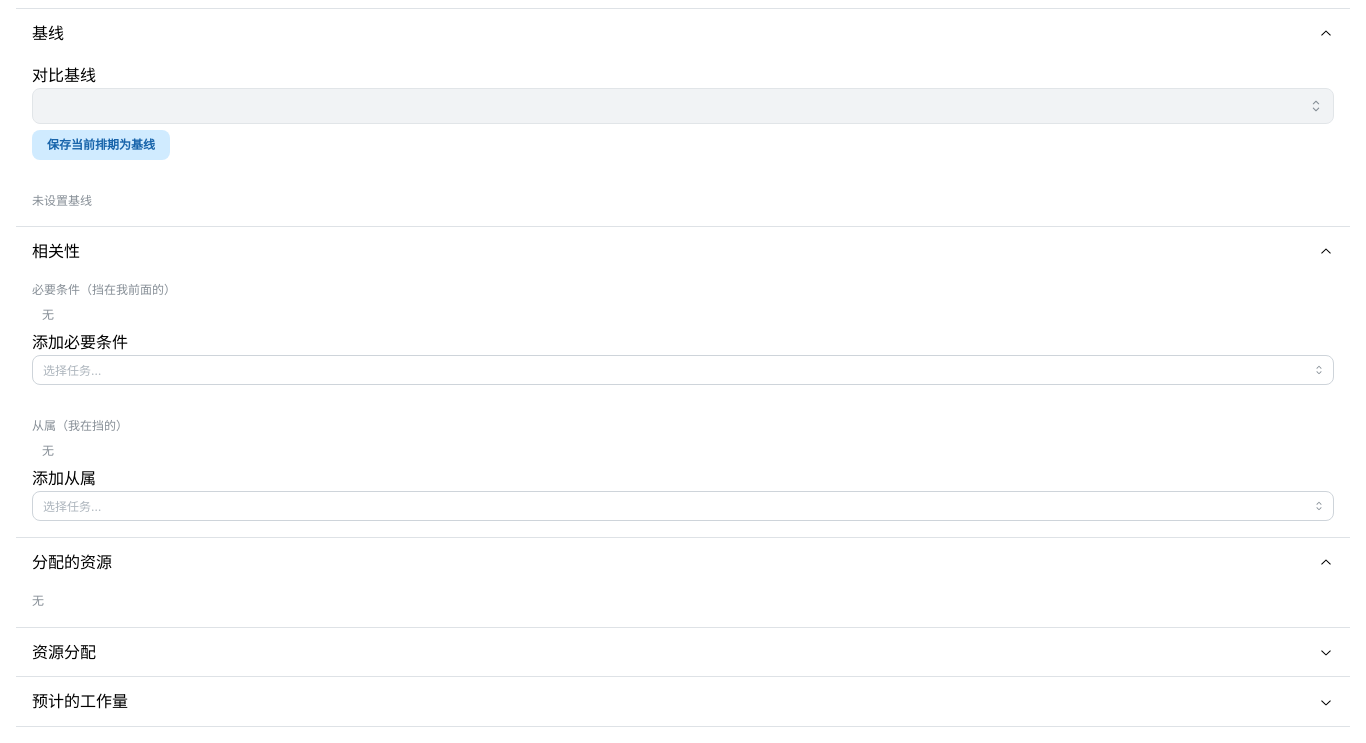
it: Inspector 任务面板的 7 个分组 › 占位组展开后是只读事实块 + 说明文案，且不含任何禁用控件（§3.3）
(page scrolled)
Click the button "资源分配". click: [64, 652]
box: [16,628,1350,676]
(page scrolled)
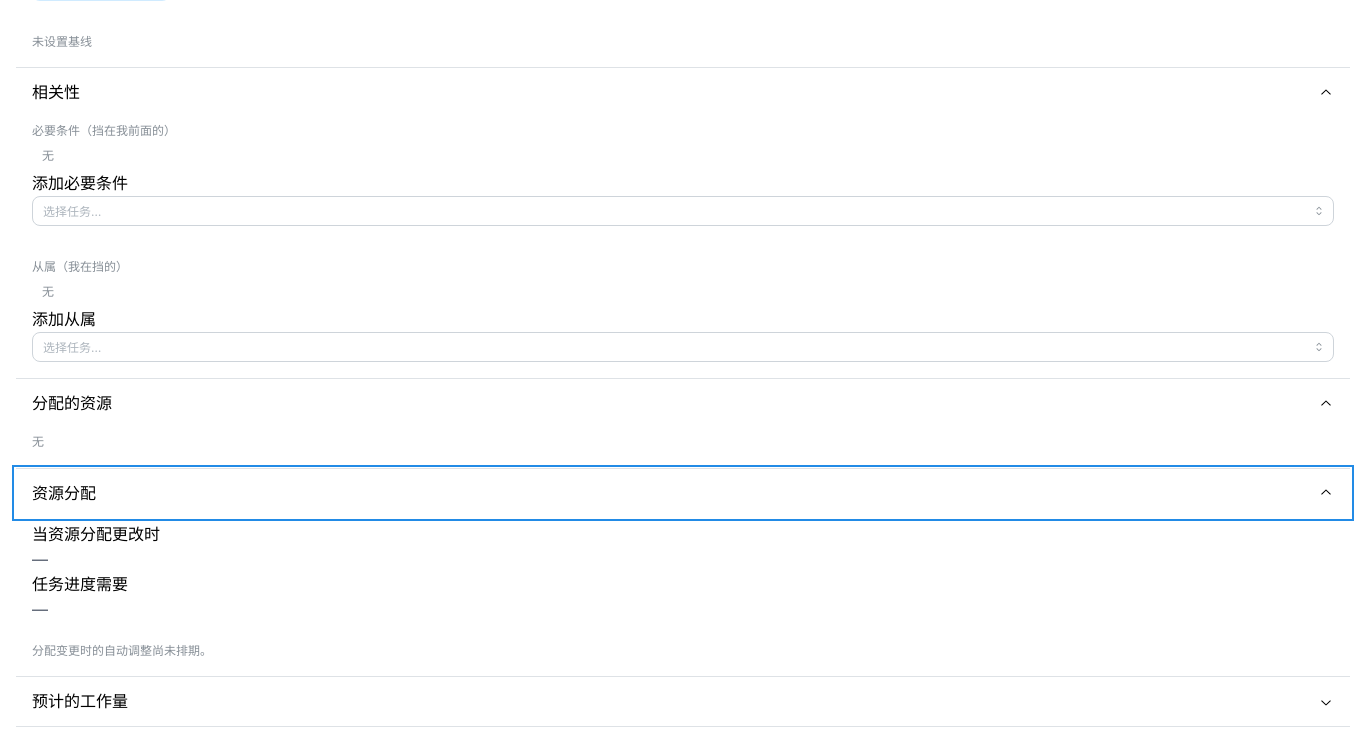
Result: the element with test id "placeholder-allocation" is shown at [32,524,212,658]
Result: the text "分配变更时的自动调整尚未排期。" is shown at [32,642,212,658]
Result: the text "当资源分配更改时" is shown at [32,524,160,544]
